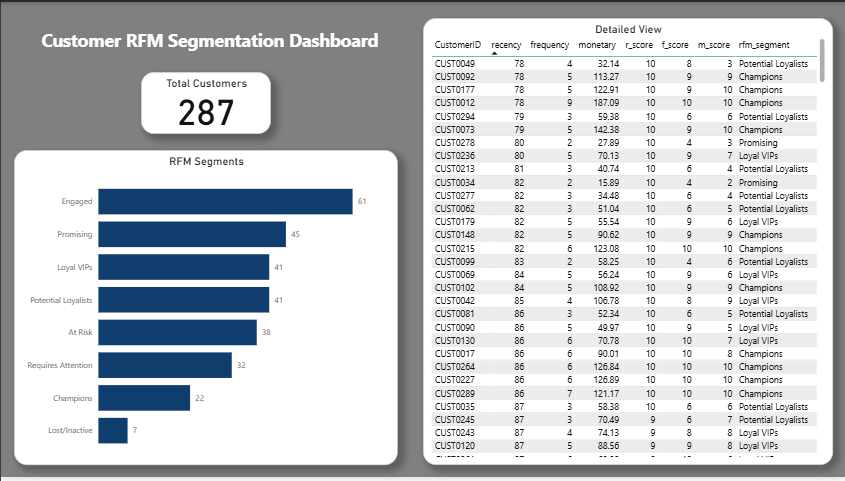

The page's visual inventory and layout, read from the dashboard file:
{"tool":"powerbi","page":{"name":"Page 1","canvas":[1280,720],"ordinal":0},"visuals":[{"type":"barChart","title":"RFM Segments","fields":{"Category":["Query1.rfm_segment"],"Y":["CountNonNull(Query1.CustomerID)"]},"box":[19.7,224.5,582.4,477.7],"z":0},{"type":"tableEx","title":"Detailed View","fields":{"Values":["Query1.CustomerID","Query1.recency","Query1.frequency","Query1.monetary","Query1.r_score","Query1.f_score","Query1.m_score","Query1.rfm_segment"]},"box":[640,24.3,621.8,677.9],"z":1000},{"type":"cardVisual","title":"Total Customers","fields":{"Data":["Query1.total customers"]},"box":[212.3,106.2,197.2,94],"z":2000},{"type":"textbox","box":[0,34.9,633.9,71.3],"z":2001}]}

Visuals, with their boxes in screenshot pixels (x1, y1, x2, y2), scaled from the page's 1280x720 canvas onto the 845x481 screenshot:
"RFM Segments" barChart: bbox(13, 150, 397, 469)
"Detailed View" tableEx: bbox(422, 16, 833, 469)
"Total Customers" cardVisual: bbox(140, 71, 270, 134)
textbox: bbox(0, 23, 418, 71)
